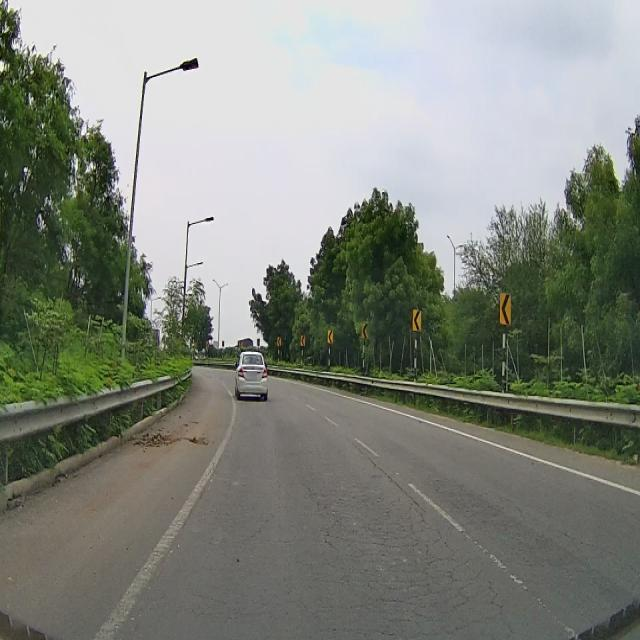car ahead at: (234, 341, 272, 404)
electric pole ahead at: (115, 46, 204, 369)
